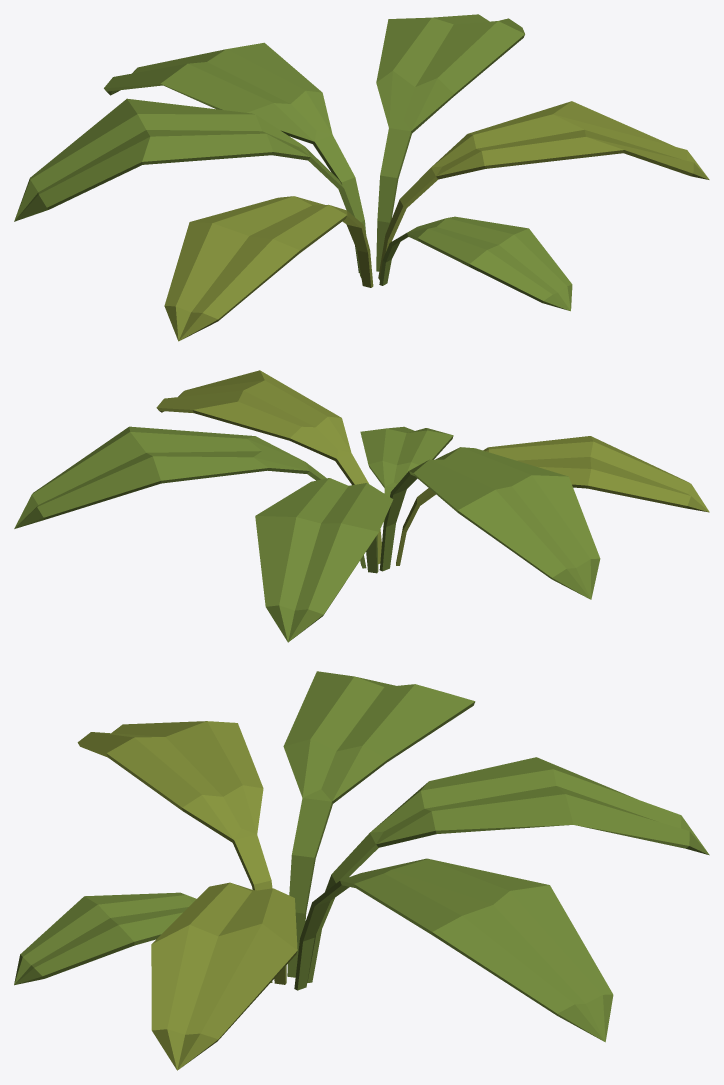
File: Plants_2.fbx
3 views of the same model, one above another, from view 1: azimuth 30°, elevation 25°; view 2: azimuth 150°, elevation 25°; view 3: azimuth 270°, elevation 25° (orthographic). The views are drawn at different scales.
Parts seen in each view (by area): view 1: Plant_2; view 2: Plant_2; view 3: Plant_2.
Boxes of the visible parts, x1,y1,x2,y2 form: Plant_2: (14,14,709,341); Plant_2: (14,370,709,642); Plant_2: (14,671,709,1070).
Bounding box in the file's own units: 168 × 46.23 × 150.
